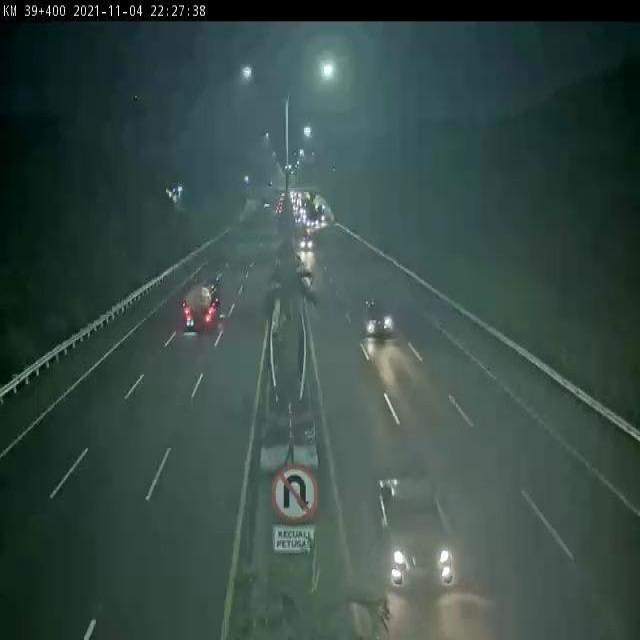car: (379, 475, 455, 589), (365, 296, 392, 339)
truck-l-: (183, 279, 223, 332)
